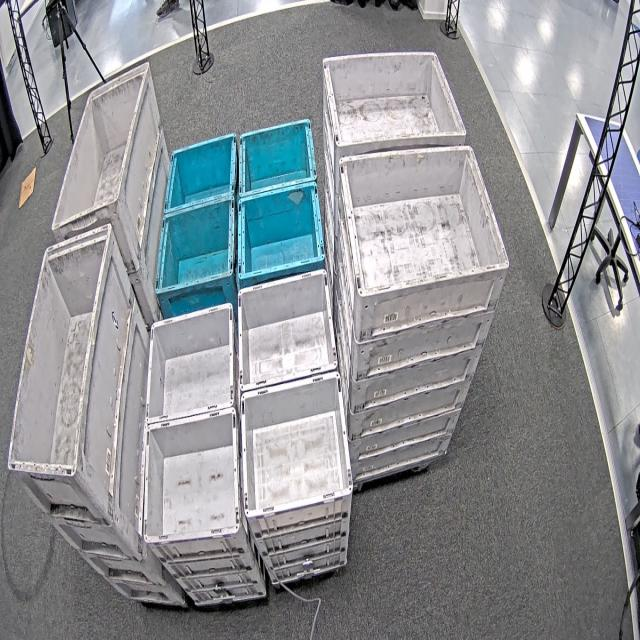Roll3G: (338, 144, 510, 298), (322, 49, 467, 149)
Roll4G: (6, 223, 113, 478), (50, 60, 151, 232)
Roll8G: (237, 267, 355, 521), (142, 302, 240, 544)
RollB8: (238, 116, 326, 280), (154, 131, 237, 296)
